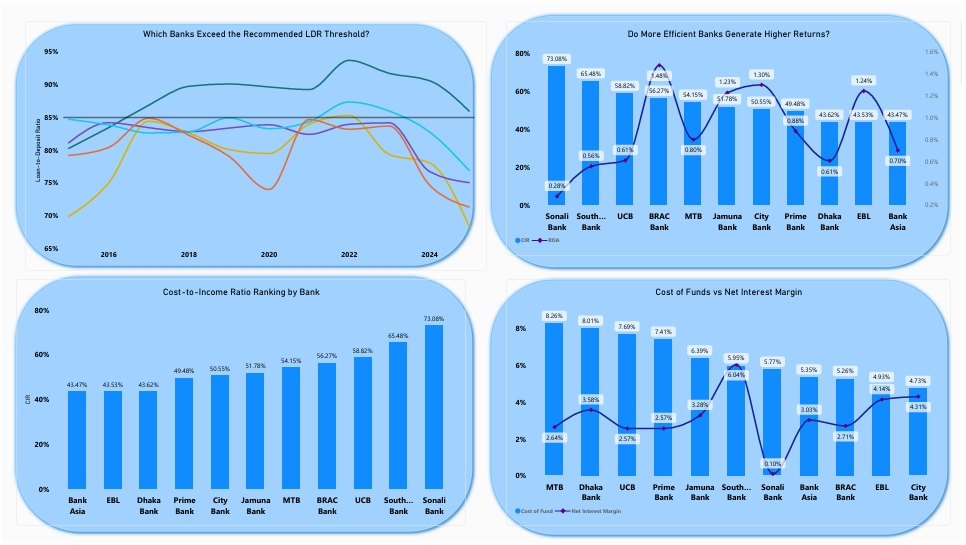

What the dashboard file says about the page in this screenshot:
{"tool":"powerbi","page":{"name":"Liquidity & Efficiency","canvas":[1920,1080],"ordinal":3},"visuals":[{"type":"lineChart","title":"Which Banks Exceed the Recommended LDR Threshold?","fields":{"Category":["Reported_Ratios_cleaned.Year"],"Series":["Bank_Master.Short_Name"],"Y":["Avg(Reported_Ratios_cleaned.LDR)"]},"box":[29.4,23.5,922.5,517.5],"z":0},{"type":"columnChart","title":"Cost-to-Income Ratio Ranking by Bank","fields":{"Category":["Bank_Master.Short_Name"],"Y":["Avg(Reported_Ratios_cleaned.CIR)"]},"box":[29.4,550,920.6,517.6],"z":1000},{"type":"lineStackedColumnComboChart","title":"Cost of Funds vs Net Interest Margin","fields":{"Category":["Bank_Master.Short_Name"],"Y":["Avg(Reported_Ratios_cleaned.Cost_of_Fund)"],"Y2":["Avg(Reported_Ratios_cleaned.Net_Interest_Margin)"]},"box":[972.7,550,922.7,518.2],"z":2000},{"type":"lineStackedColumnComboChart","title":"Do More Efficient Banks Generate Higher Returns?","fields":{"Category":["Bank_Master.Short_Name"],"Y":["Avg(Reported_Ratios_cleaned.CIR)"],"Y2":["Avg(Reported_Ratios_cleaned.ROA)"]},"box":[975,22.5,922.7,518.2],"z":3000}]}

Visuals, with their boxes in screenshot pixels (x1, y1, x2, y2), scaled from the page's 1920x1080 canvas onto the 966x545 screenshot:
"Which Banks Exceed the Recommended LDR Threshold?" lineChart: (15, 12, 479, 273)
"Cost-to-Income Ratio Ranking by Bank" columnChart: (15, 278, 478, 539)
"Cost of Funds vs Net Interest Margin" lineStackedColumnComboChart: (489, 278, 954, 539)
"Do More Efficient Banks Generate Higher Returns?" lineStackedColumnComboChart: (491, 11, 955, 273)
